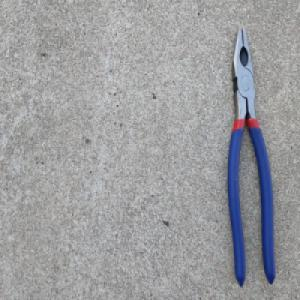Pliers: (226, 23, 277, 291)
